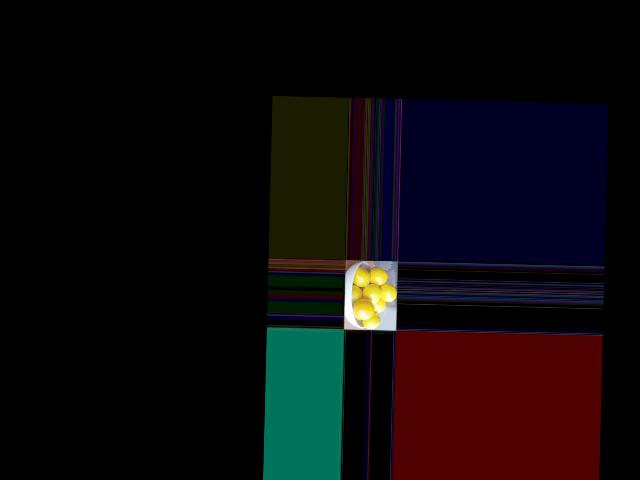lemon: (347, 286, 362, 300)
